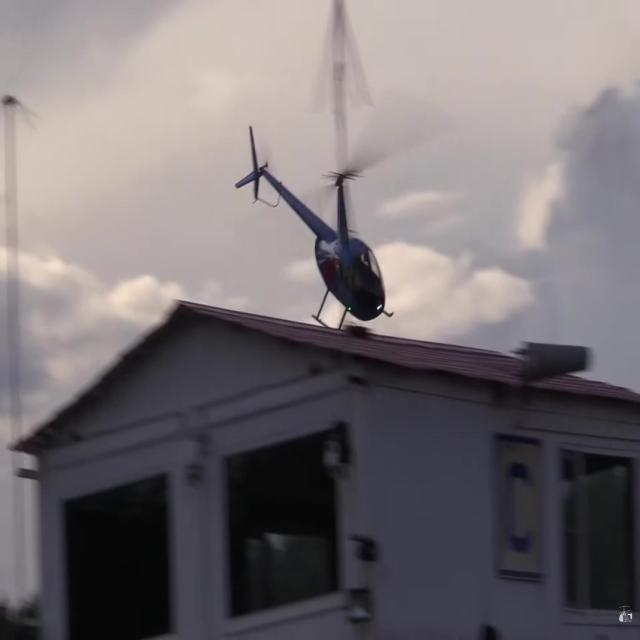CIV_HELO: (234, 122, 395, 338)
